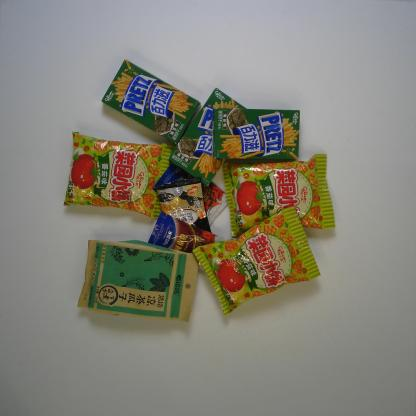Dessert: (100, 58, 202, 145), (168, 88, 250, 188), (212, 106, 300, 160)
Dried Food: (76, 238, 200, 323)
Instant Drink: (154, 176, 212, 234)
Puffed Food: (190, 205, 322, 317), (62, 130, 175, 219), (222, 153, 337, 237)
Seasoner: (152, 162, 228, 226), (147, 211, 218, 272)
